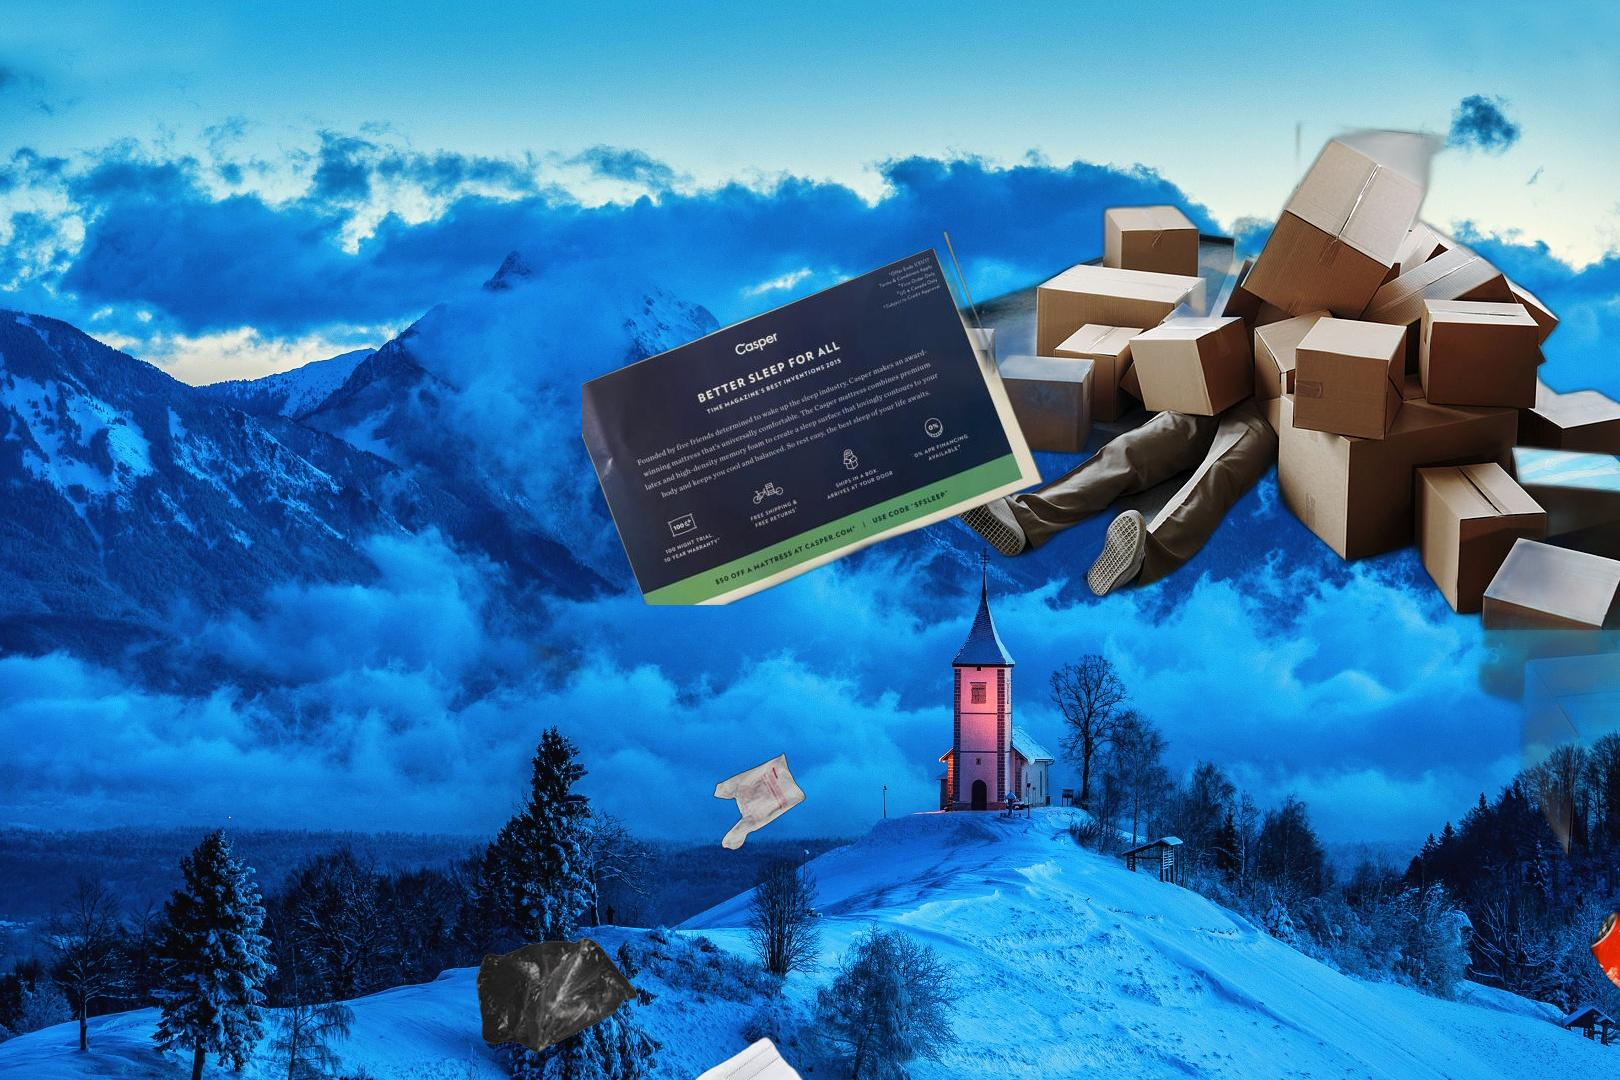biological: (968, 1019, 1620, 1080)
metal-cans: (1585, 906, 1620, 1025)
paper: (582, 228, 1047, 605)
plastic-bag: (526, 636, 809, 853), (472, 937, 641, 1056)
trash: (1439, 415, 1620, 548), (612, 1035, 818, 1080)
trashbox-cardboard: (890, 108, 1620, 953)
